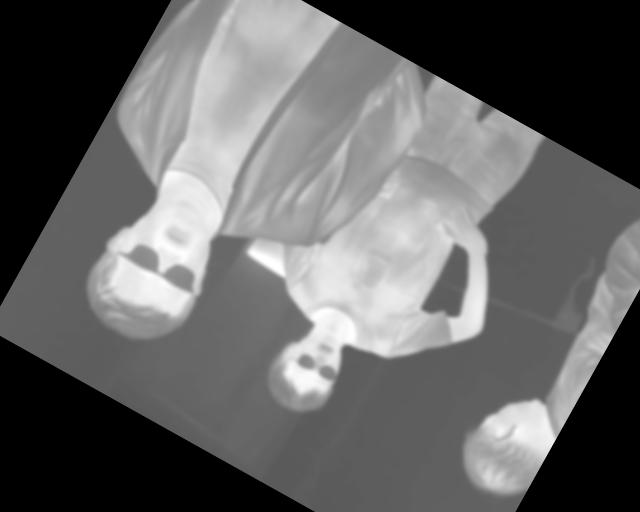face: (70, 178, 236, 360), (255, 316, 357, 425)
